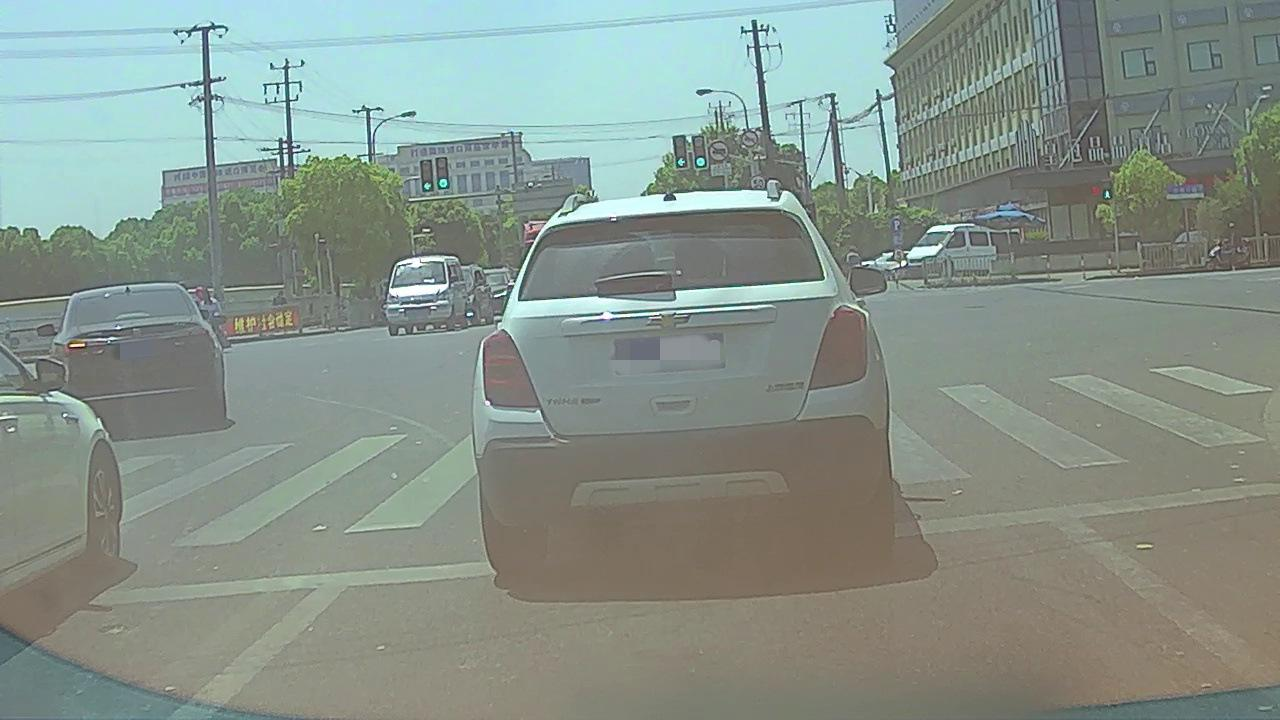traffic_light: (694, 135, 707, 168), (436, 156, 448, 187), (675, 136, 687, 167), (421, 158, 432, 191)
